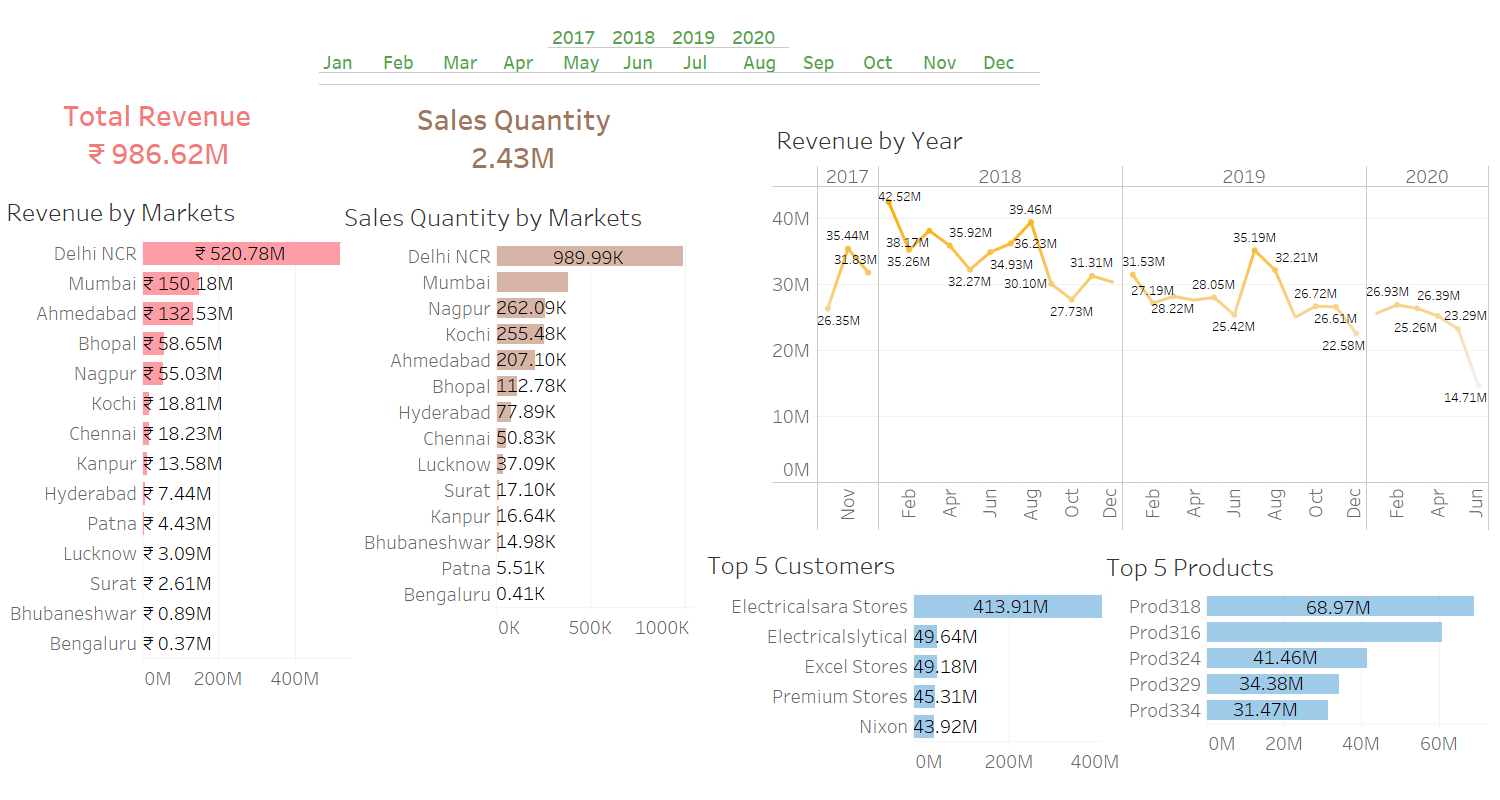

Layout of this report page (visuals, bound fields, positions):
{"tool":"tableau","page":{"name":"Dashboard 1","canvas":[1500,800],"ordinal":0},"visuals":[{"type":"worksheet","title":"Year","mark":"Automatic","cols":["cy_date"],"box":[548,11.6,247,86.2]},{"type":"worksheet","title":"Month","mark":"Automatic","cols":["cy_date"],"box":[319,37.3,733,105.6]},{"type":"worksheet","title":"Revenue","mark":"Automatic","box":[59,81,263,115]},{"type":"worksheet","title":"Quantity","mark":"Automatic","box":[404,85,288,137]},{"type":"worksheet","title":"Revenue by Year","mark":"Automatic","rows":["Calculation_599823191890558976"],"cols":["cy_date","cy_date"],"box":[772,117,717,414]},{"type":"worksheet","title":"Revenue by Markets","mark":"Automatic","rows":["markets_name"],"cols":["Calculation_599823191890558976"],"box":[2,189,349,524]},{"type":"worksheet","title":"Sales Quantity by Markets","mark":"Automatic","rows":["markets_name"],"cols":["sales_qty"],"box":[340,194,352,484]}]}

Visuals, with their boxes in screenshot pixels (x1, y1, x2, y2), scaled from the page's 1500x800 canvas onto the 1500x800 screenshot:
"Year" worksheet: 548 12 795 98
"Month" worksheet: 319 37 1052 143
"Revenue" worksheet: 59 81 322 196
"Quantity" worksheet: 404 85 692 222
"Revenue by Year" worksheet: 772 117 1489 531
"Revenue by Markets" worksheet: 2 189 351 713
"Sales Quantity by Markets" worksheet: 340 194 692 678
